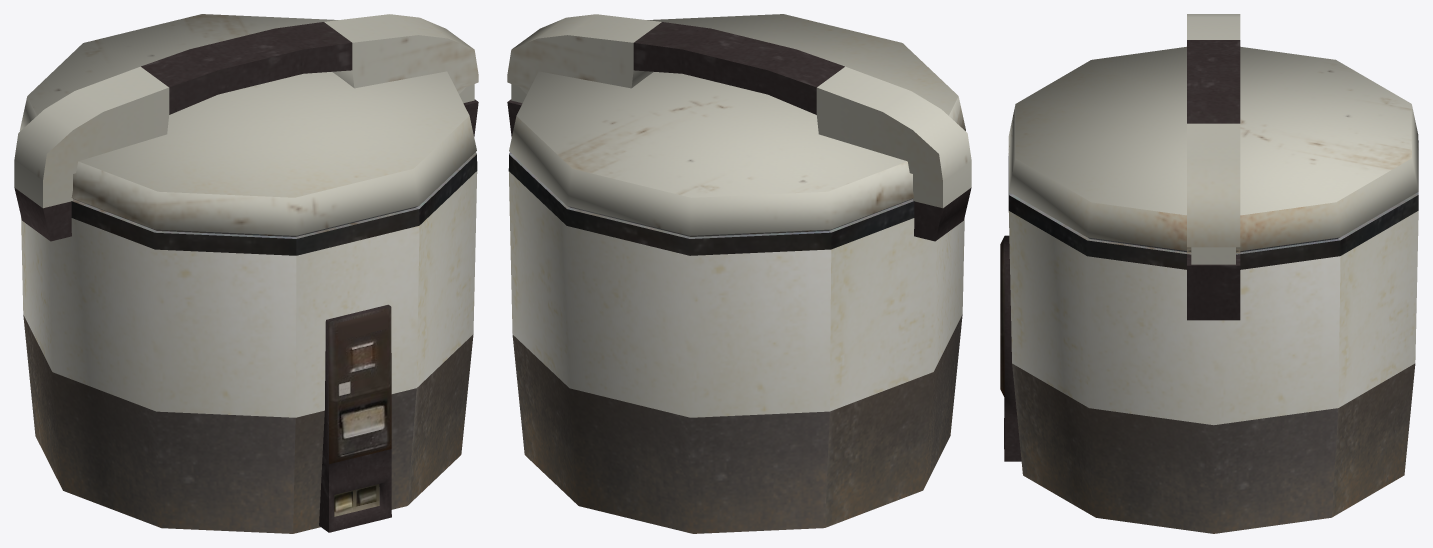
Rendered from ricecooker.fbx.
The picture shows the model from 3 angles, left to right: view 1: azimuth 30°, elevation 25°; view 2: azimuth 150°, elevation 25°; view 3: azimuth 270°, elevation 25°; orthographic projection. The views are drawn at different scales.
Parts seen in each view (by area): view 1: ricecooker; view 2: ricecooker; view 3: ricecooker.
Boxes of the visible parts, x1,y1,x2,y2 form: ricecooker: (14,14,478,533); ricecooker: (507,14,971,533); ricecooker: (1000,14,1418,533).
Bounding box in the file's own units: 43.61 × 38.04 × 38.71.
